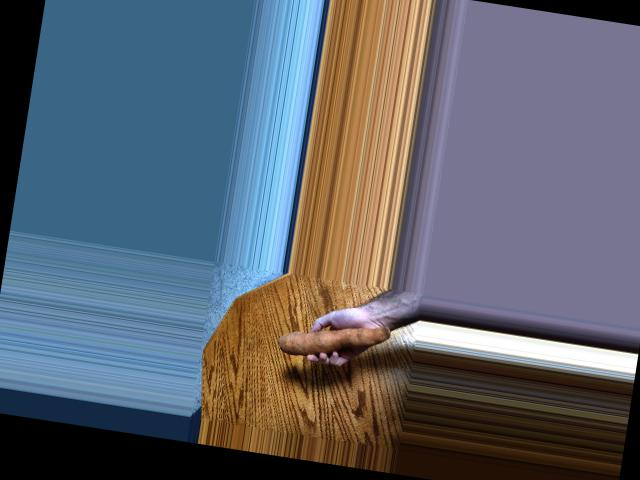sweet_potato: (273, 314, 386, 370)
